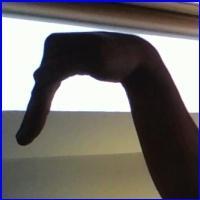A: (7, 29, 167, 168)
